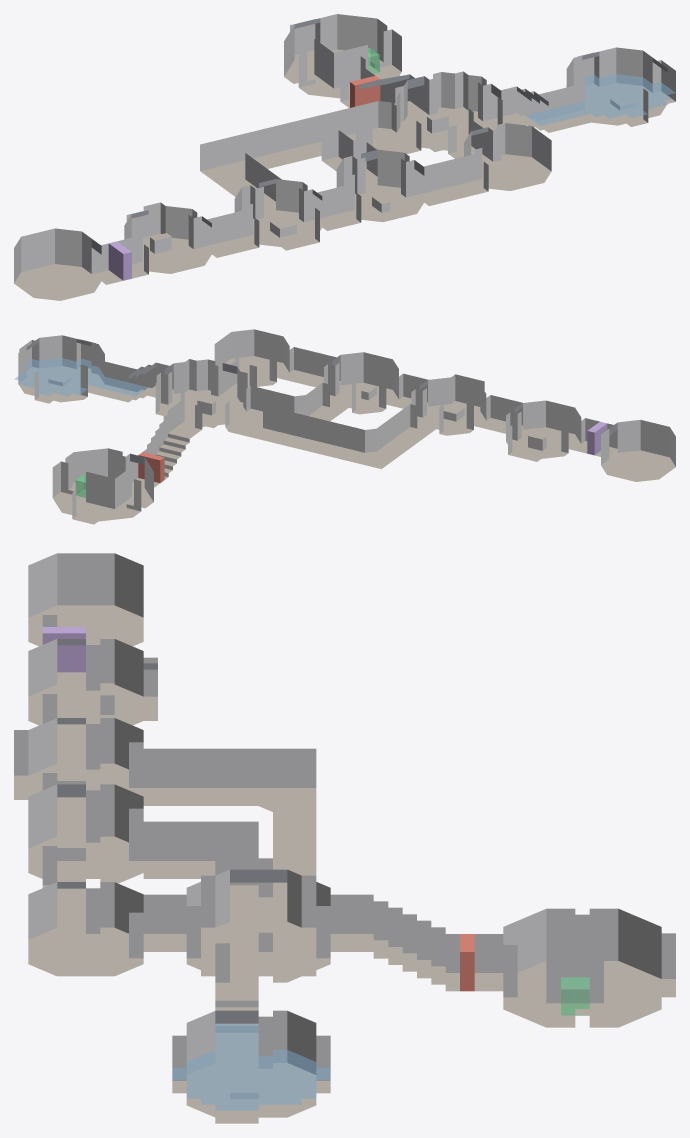
Rendered from pod_mining_04.glb.
The picture shows the model from 3 angles, top to bottom: view 1: azimuth 30°, elevation 25°; view 2: azimuth 150°, elevation 25°; view 3: azimuth 270°, elevation 25°; orthographic projection. The views are drawn at different scales.
Visible parts, largest first — view 1: corridor:8, room:7, room:3, room:1, room:2, water, room:0, room:6, room:4, room:5, corridor:2, corridor:3 (+18 smaller); view 2: corridor:8, room:3, room:7, room:2, room:1, room:6, room:4, room:5, room:0, water, corridor:7, corridor:1 (+15 smaller); view 3: corridor:8, room:2, room:3, room:1, corridor:1, room:7, water, room:0, room:4, room:6, corridor:7, room:5 (+14 smaller).
Boxes of the visible parts, x1=… form: corridor:8: x1=200, y1=101, x2=405, y2=212; room:7: x1=14, y1=228, x2=101, y2=300; room:3: x1=566, y1=47, x2=667, y2=125; room:1: x1=395, y1=71, x2=502, y2=151; room:2: x1=284, y1=14, x2=401, y2=99; water: x1=526, y1=74, x2=675, y2=125; room:0: x1=464, y1=123, x2=551, y2=190; room:6: x1=124, y1=202, x2=211, y2=273; room:4: x1=336, y1=149, x2=424, y2=222; room:5: x1=234, y1=179, x2=322, y2=250; corridor:2: x1=491, y1=85, x2=590, y2=132; corridor:3: x1=414, y1=154, x2=488, y2=205; corridor:8: x1=225, y1=401, x2=431, y2=468; room:3: x1=18, y1=335, x2=104, y2=402; room:7: x1=601, y1=419, x2=675, y2=481; room:2: x1=52, y1=448, x2=153, y2=521; room:1: x1=155, y1=359, x2=247, y2=428; room:6: x1=506, y1=400, x2=581, y2=458; room:4: x1=324, y1=352, x2=398, y2=414; room:5: x1=411, y1=374, x2=486, y2=435; room:0: x1=214, y1=329, x2=289, y2=387; water: x1=14, y1=358, x2=147, y2=396; corridor:7: x1=238, y1=383, x2=343, y2=423; corridor:1: x1=130, y1=401, x2=202, y2=487; corridor:8: x1=143, y1=748, x2=316, y2=921; room:2: x1=503, y1=908, x2=661, y2=1027; room:3: x1=186, y1=1010, x2=316, y2=1117; room:1: x1=186, y1=869, x2=330, y2=982; corridor:1: x1=330, y1=894, x2=503, y2=991; room:7: x1=28, y1=553, x2=143, y2=646; water: x1=172, y1=1023, x2=330, y2=1110; room:0: x1=28, y1=882, x2=143, y2=976; room:4: x1=28, y1=784, x2=143, y2=883; room:6: x1=28, y1=639, x2=157, y2=732; corridor:7: x1=143, y1=821, x2=258, y2=921; room:5: x1=14, y1=718, x2=143, y2=812.
Size of the model in its own units: 82 by 7 by 46.
